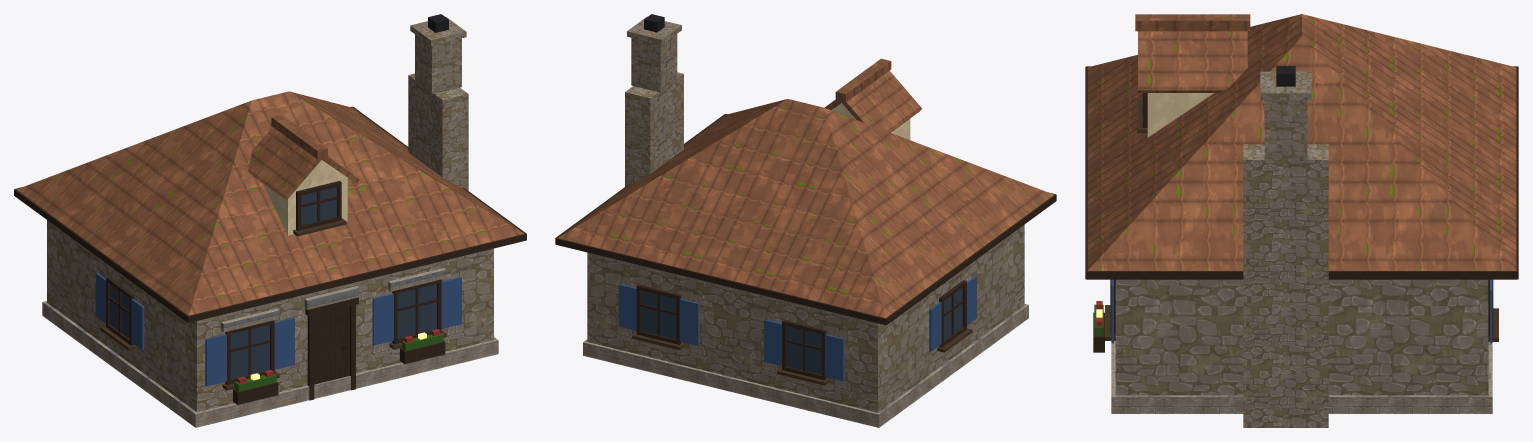
The model's file is stone_cottage.glb.
3 renders of one model, left to right at view 1: azimuth 30°, elevation 25°; view 2: azimuth 150°, elevation 25°; view 3: azimuth 270°, elevation 25°, orthographic. The views are drawn at different scales.
Visible parts, largest first — view 1: stone_cottage; view 2: stone_cottage; view 3: stone_cottage.
Boxes of the visible parts, x1=… form: stone_cottage: x1=14, y1=14, x2=526, y2=427; stone_cottage: x1=555, y1=14, x2=1056, y2=427; stone_cottage: x1=1085, y1=14, x2=1518, y2=427.
Bounding box in the file's own units: 9.4 × 7.25 × 8.14.
11 materials, 5 textured.
